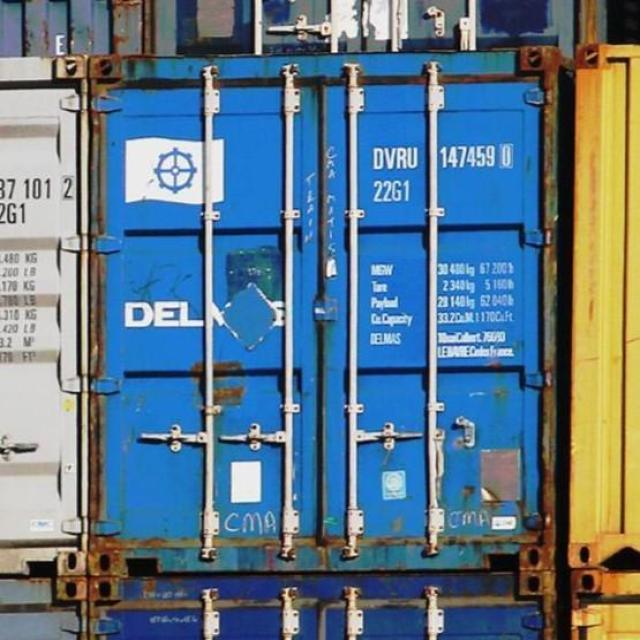ISO: (372, 180, 412, 203)
container_number: (369, 147, 516, 169)
